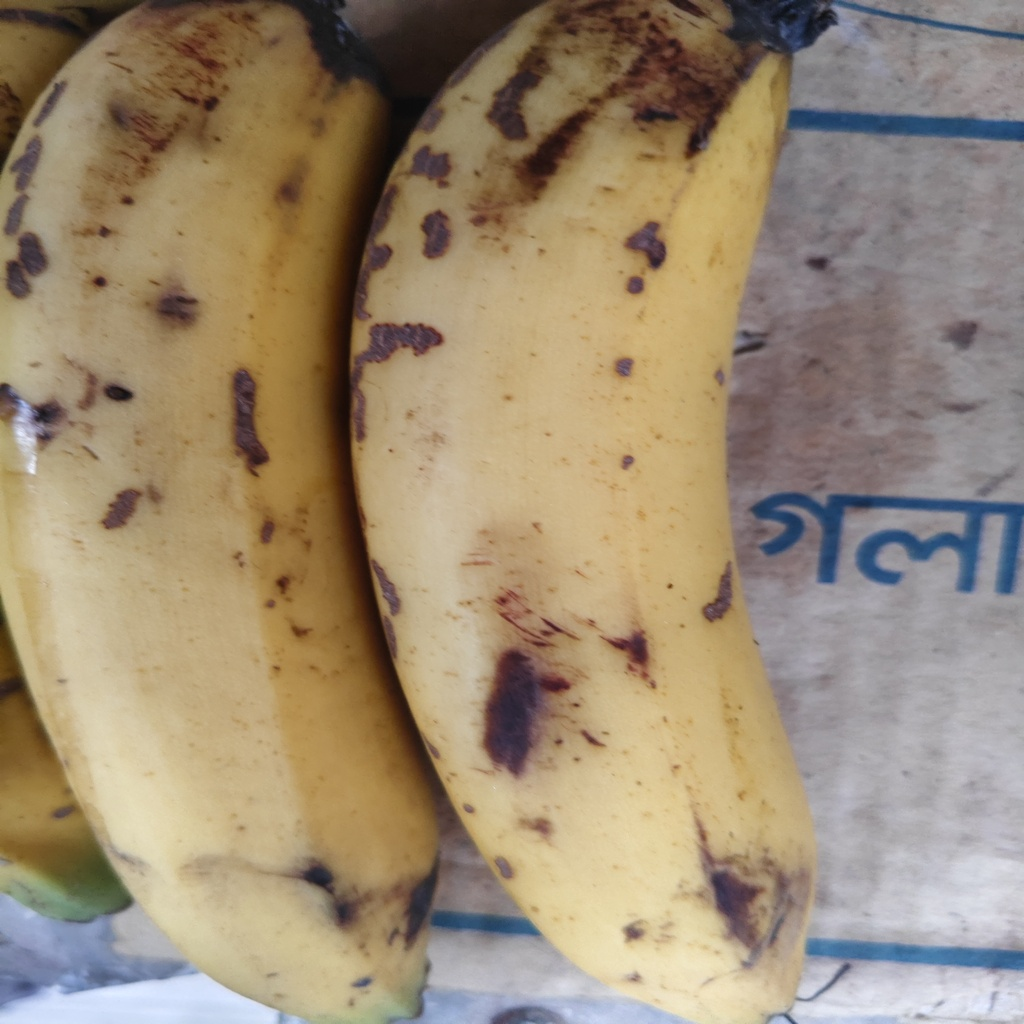unhealthy: (354, 2, 823, 1011), (5, 2, 450, 1022)
